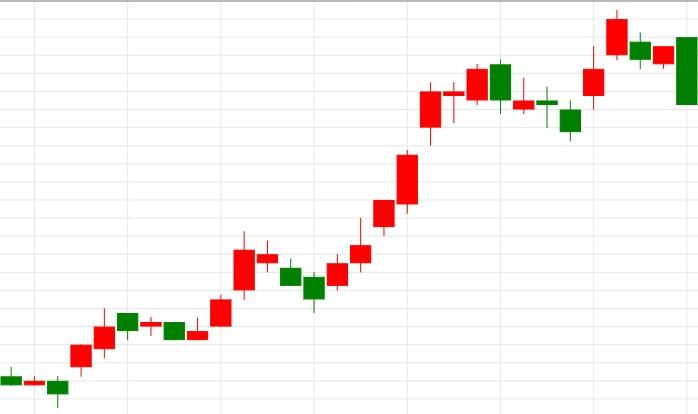bearish_engulfing_fall: (303, 61, 512, 313)
three_white_soldiers_rise: (234, 199, 395, 313)
